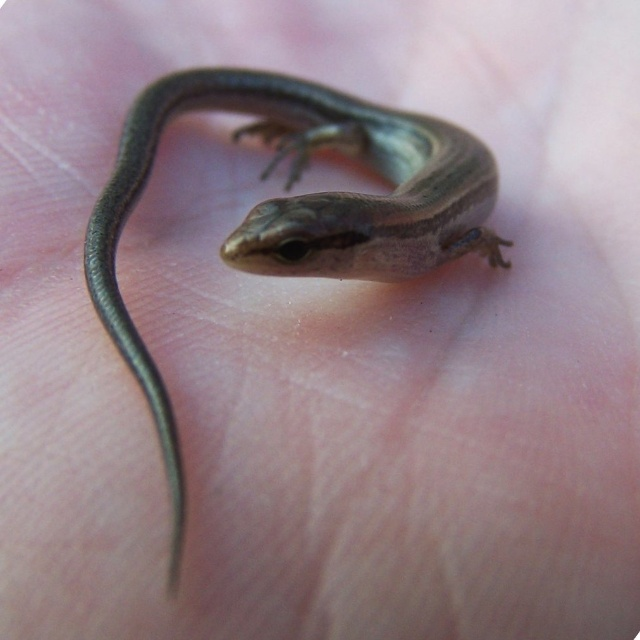Lizard: (77, 83, 408, 593)
